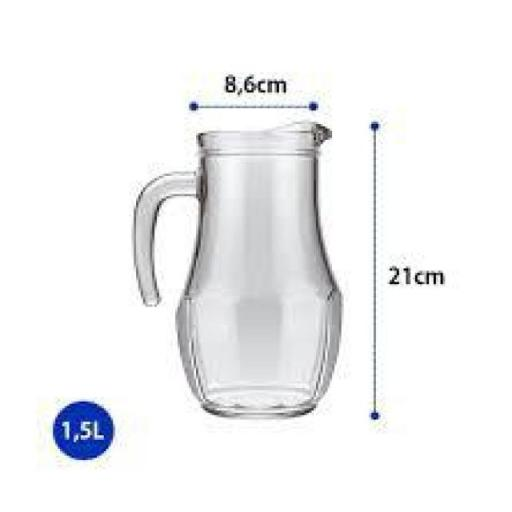glass: (135, 125, 340, 417)
